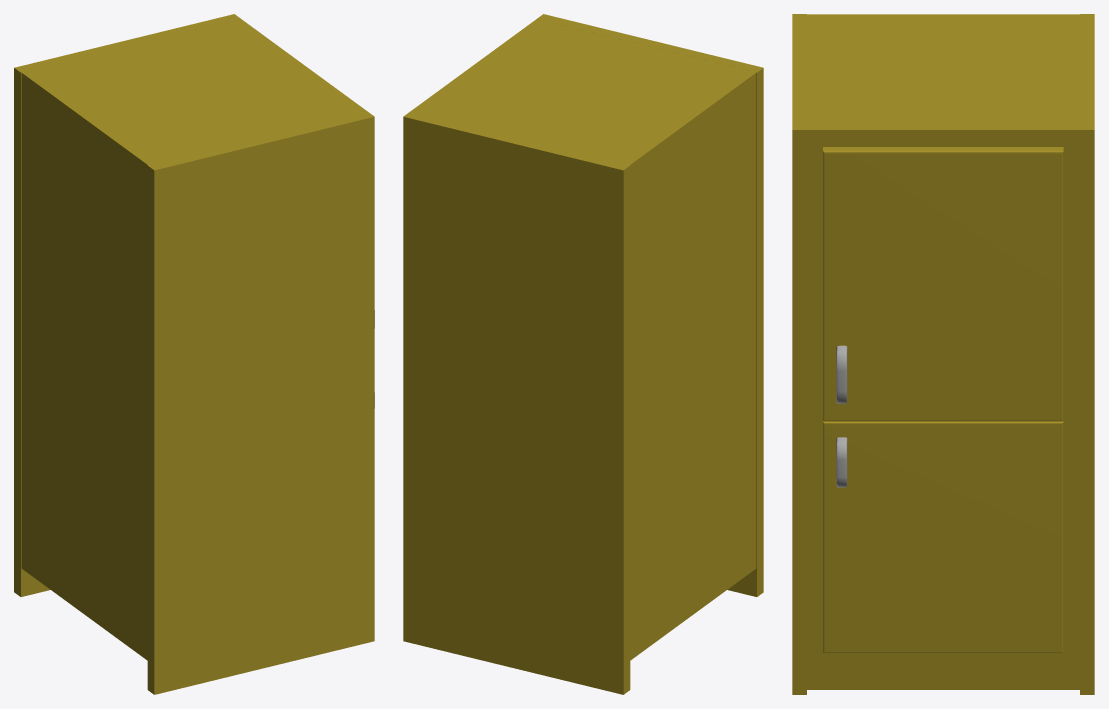
Rendered from Larder Unit.fbx.
The picture shows the model from 3 angles, left to right: view 1: azimuth 30°, elevation 25°; view 2: azimuth 150°, elevation 25°; view 3: azimuth 270°, elevation 25°; orthographic projection. The views are drawn at different scales.
Parts seen in each view (by area): view 1: Larder_Unit; view 2: Larder_Unit; view 3: Larder_Unit.
Boxes of the visible parts, x1,y1,x2,y2 form: Larder_Unit: (14, 14, 374, 694); Larder_Unit: (403, 14, 763, 694); Larder_Unit: (792, 14, 1094, 694).
Bounding box in the file's own units: 110 × 228 × 111.
